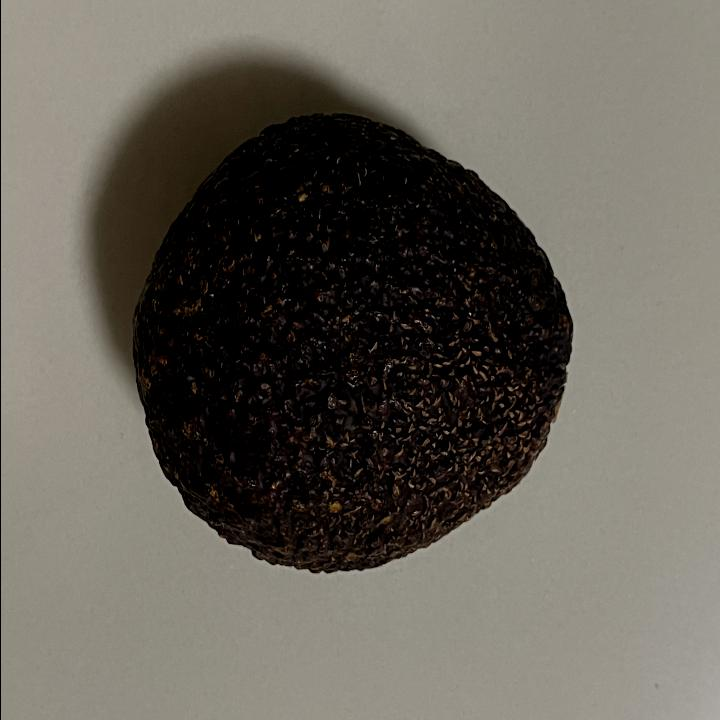Level3: (122, 100, 582, 588)
